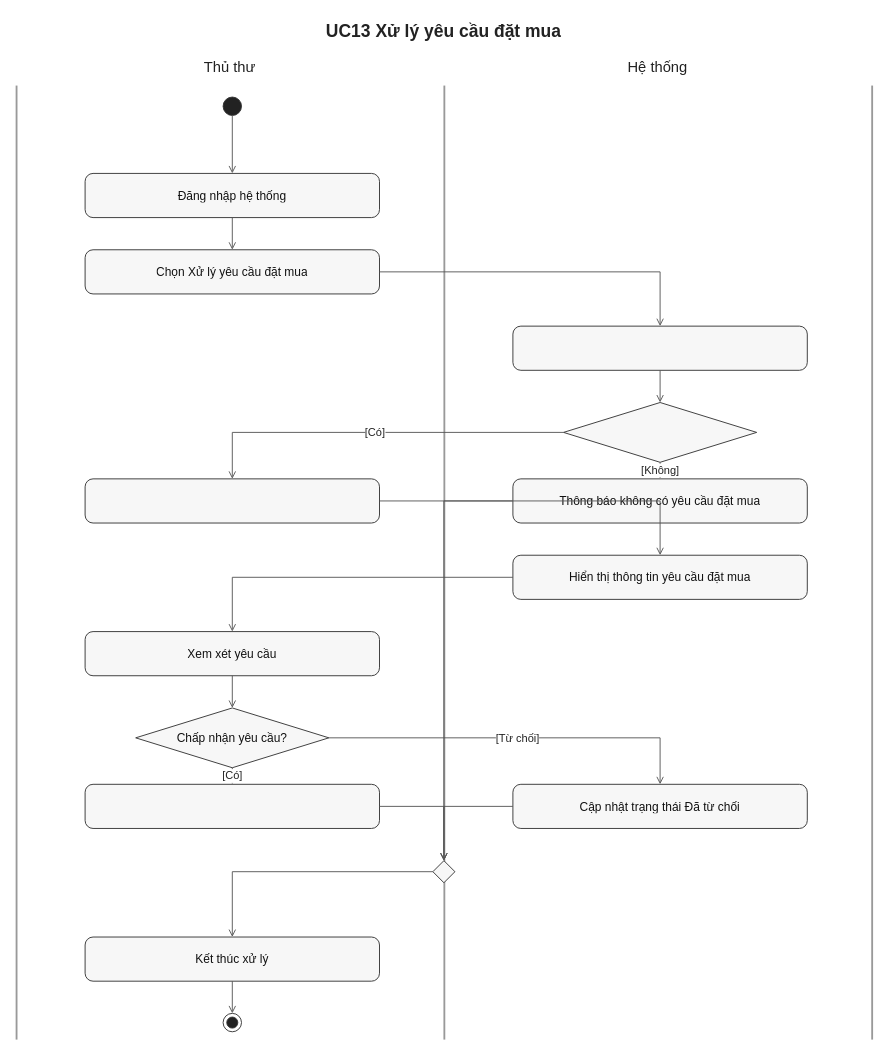
Some shapes in this 889 by 1055 pixel diagram are drawn without their labels. Each missing label, with the box of its shape:
Chọn yêu cầu đặt mua: (84, 478, 380, 523)
Có yêu cầu?: (563, 402, 757, 462)
Cập nhật trạng thái Đã chấp nhận: (84, 783, 380, 828)
Hiển thị danh sách yêu cầu đặt mua: (512, 325, 807, 370)
